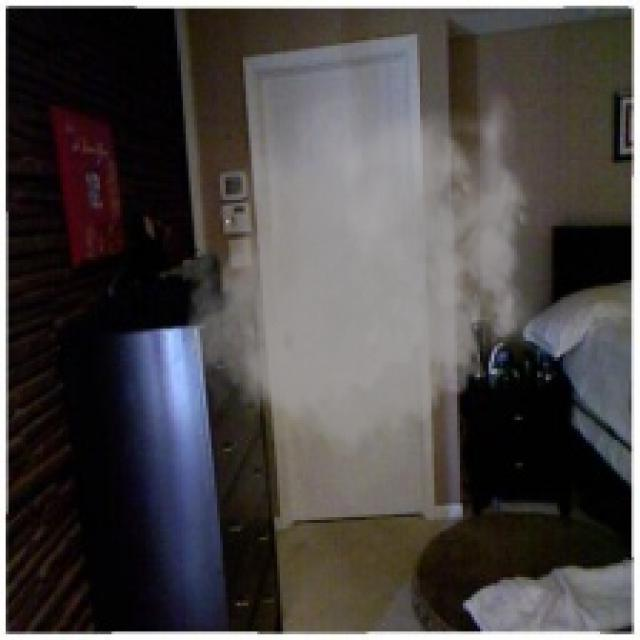Smoke: (174, 77, 546, 469)
